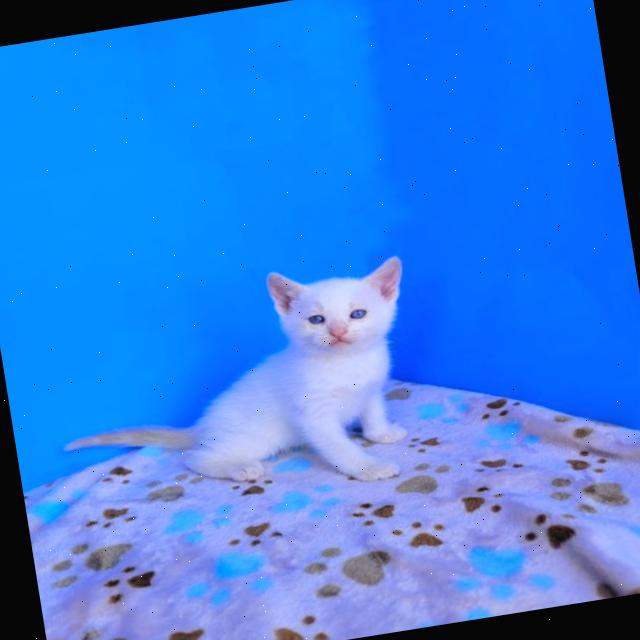siamese_cat: (241, 244, 437, 380)
